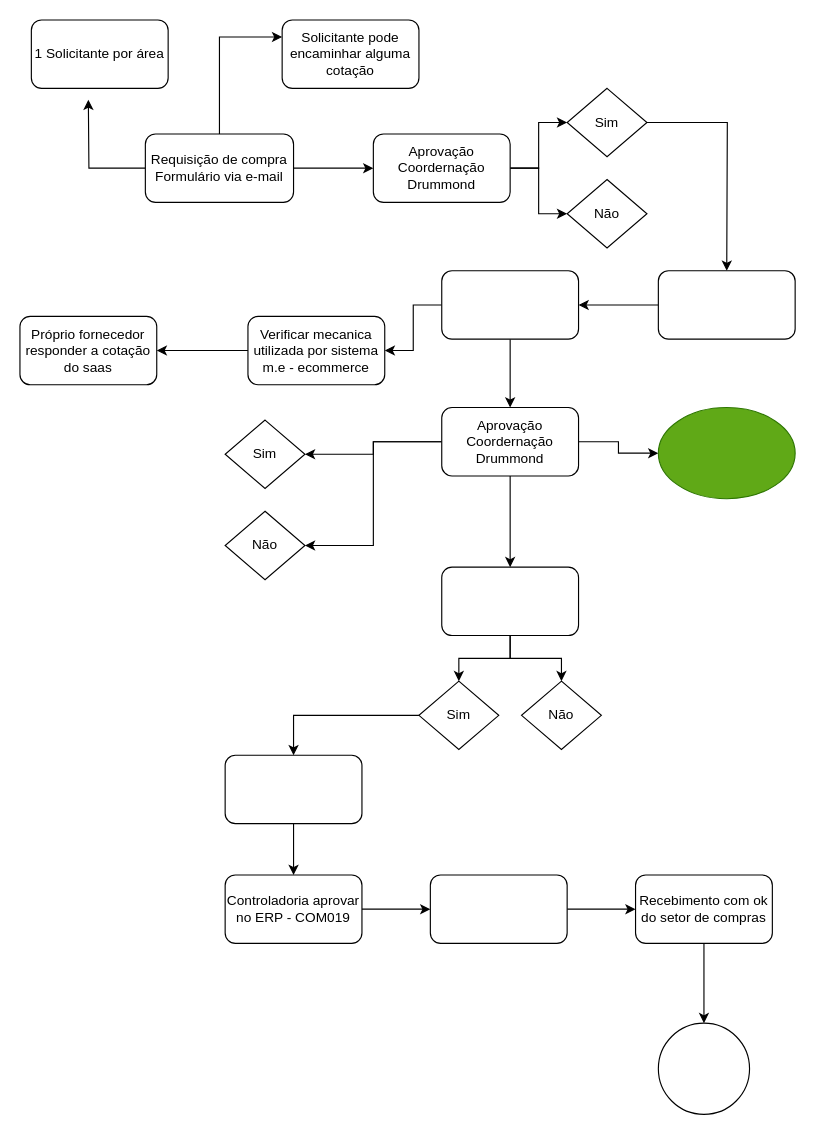
This 815x1134 diagram has some shape labels left out. Each missing label, with the box of its shape:
add no sistema: (657, 406, 795, 499)
Aprovação diretoria Leonardo: (441, 566, 579, 636)
Compras: (657, 270, 795, 339)
Compras inserir no ERP - COM04: (224, 754, 362, 824)
Realizar 3 cotações: (441, 270, 579, 339)
Tempo de recebimento da compra: (429, 874, 567, 943)
Verificar avaria e tirar foto: (657, 1022, 750, 1114)
